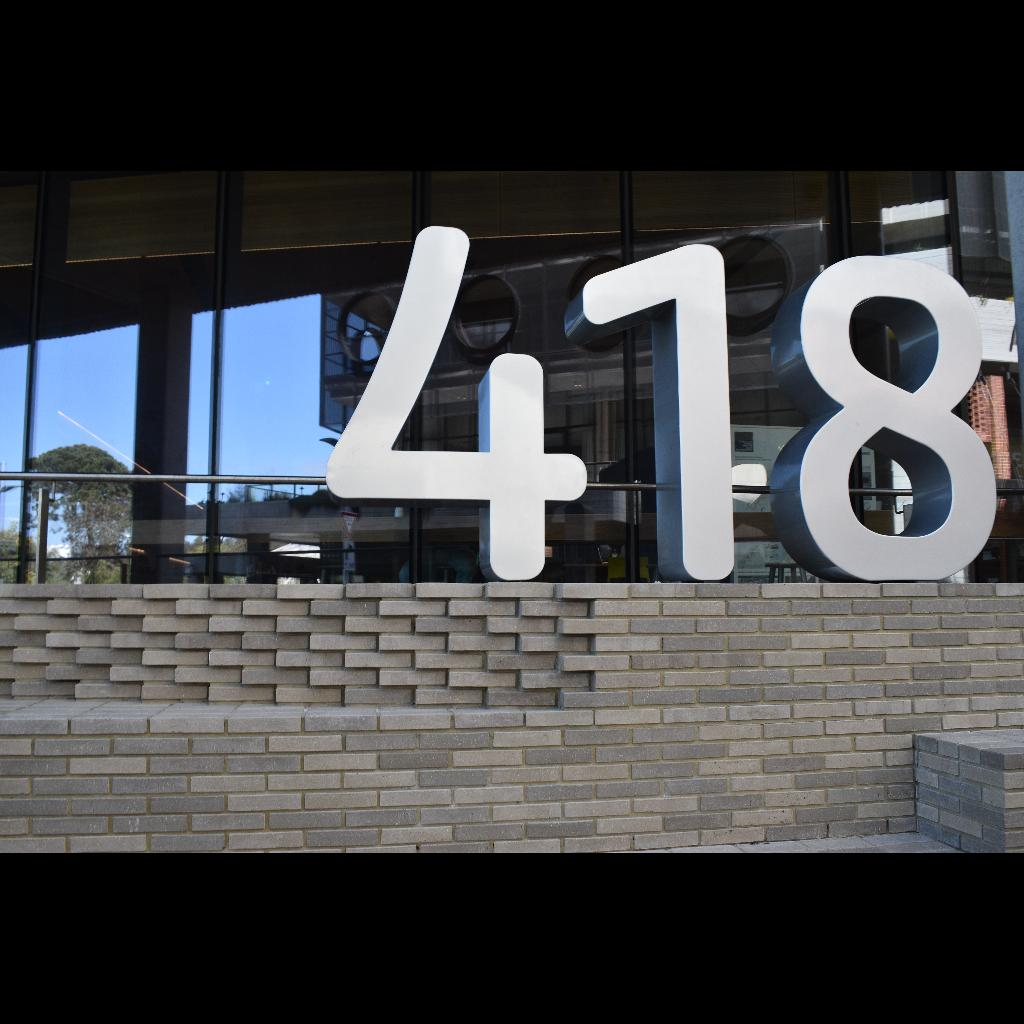BuildingCodes: (320, 220, 1002, 584)
